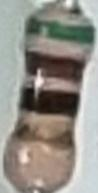Black: (19, 87, 80, 117)
Brown: (26, 48, 85, 82)
Green: (23, 16, 95, 44)
Side-Gold: (9, 121, 74, 150)
